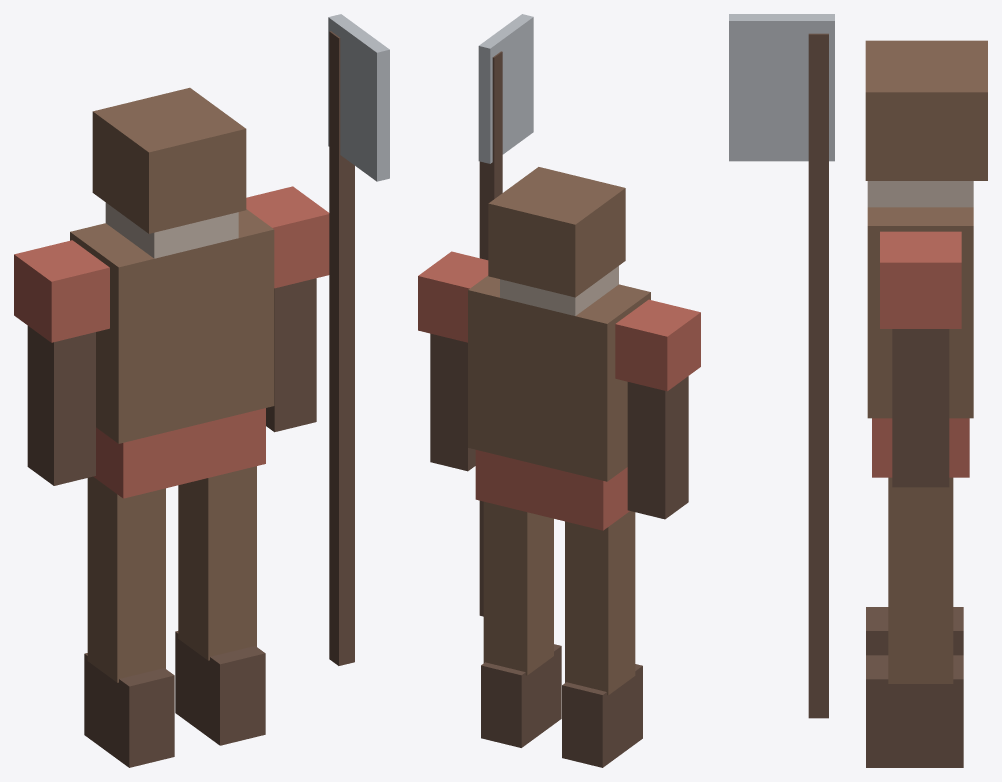
The model's file is labyrinth_minotaur.glb.
3 views of the same model, side by side, from view 1: azimuth 30°, elevation 25°; view 2: azimuth 150°, elevation 25°; view 3: azimuth 270°, elevation 25° (orthographic). The views are drawn at different scales.
Parts seen in each view (by area): view 1: labyrinth_minotaur; view 2: labyrinth_minotaur; view 3: labyrinth_minotaur.
Boxes of the visible parts, bbox=[...] form: labyrinth_minotaur: bbox=[14, 14, 389, 767]; labyrinth_minotaur: bbox=[418, 14, 700, 767]; labyrinth_minotaur: bbox=[729, 14, 987, 767].
Size of the model in its own units: 1.19 by 2.91 by 0.8756.
